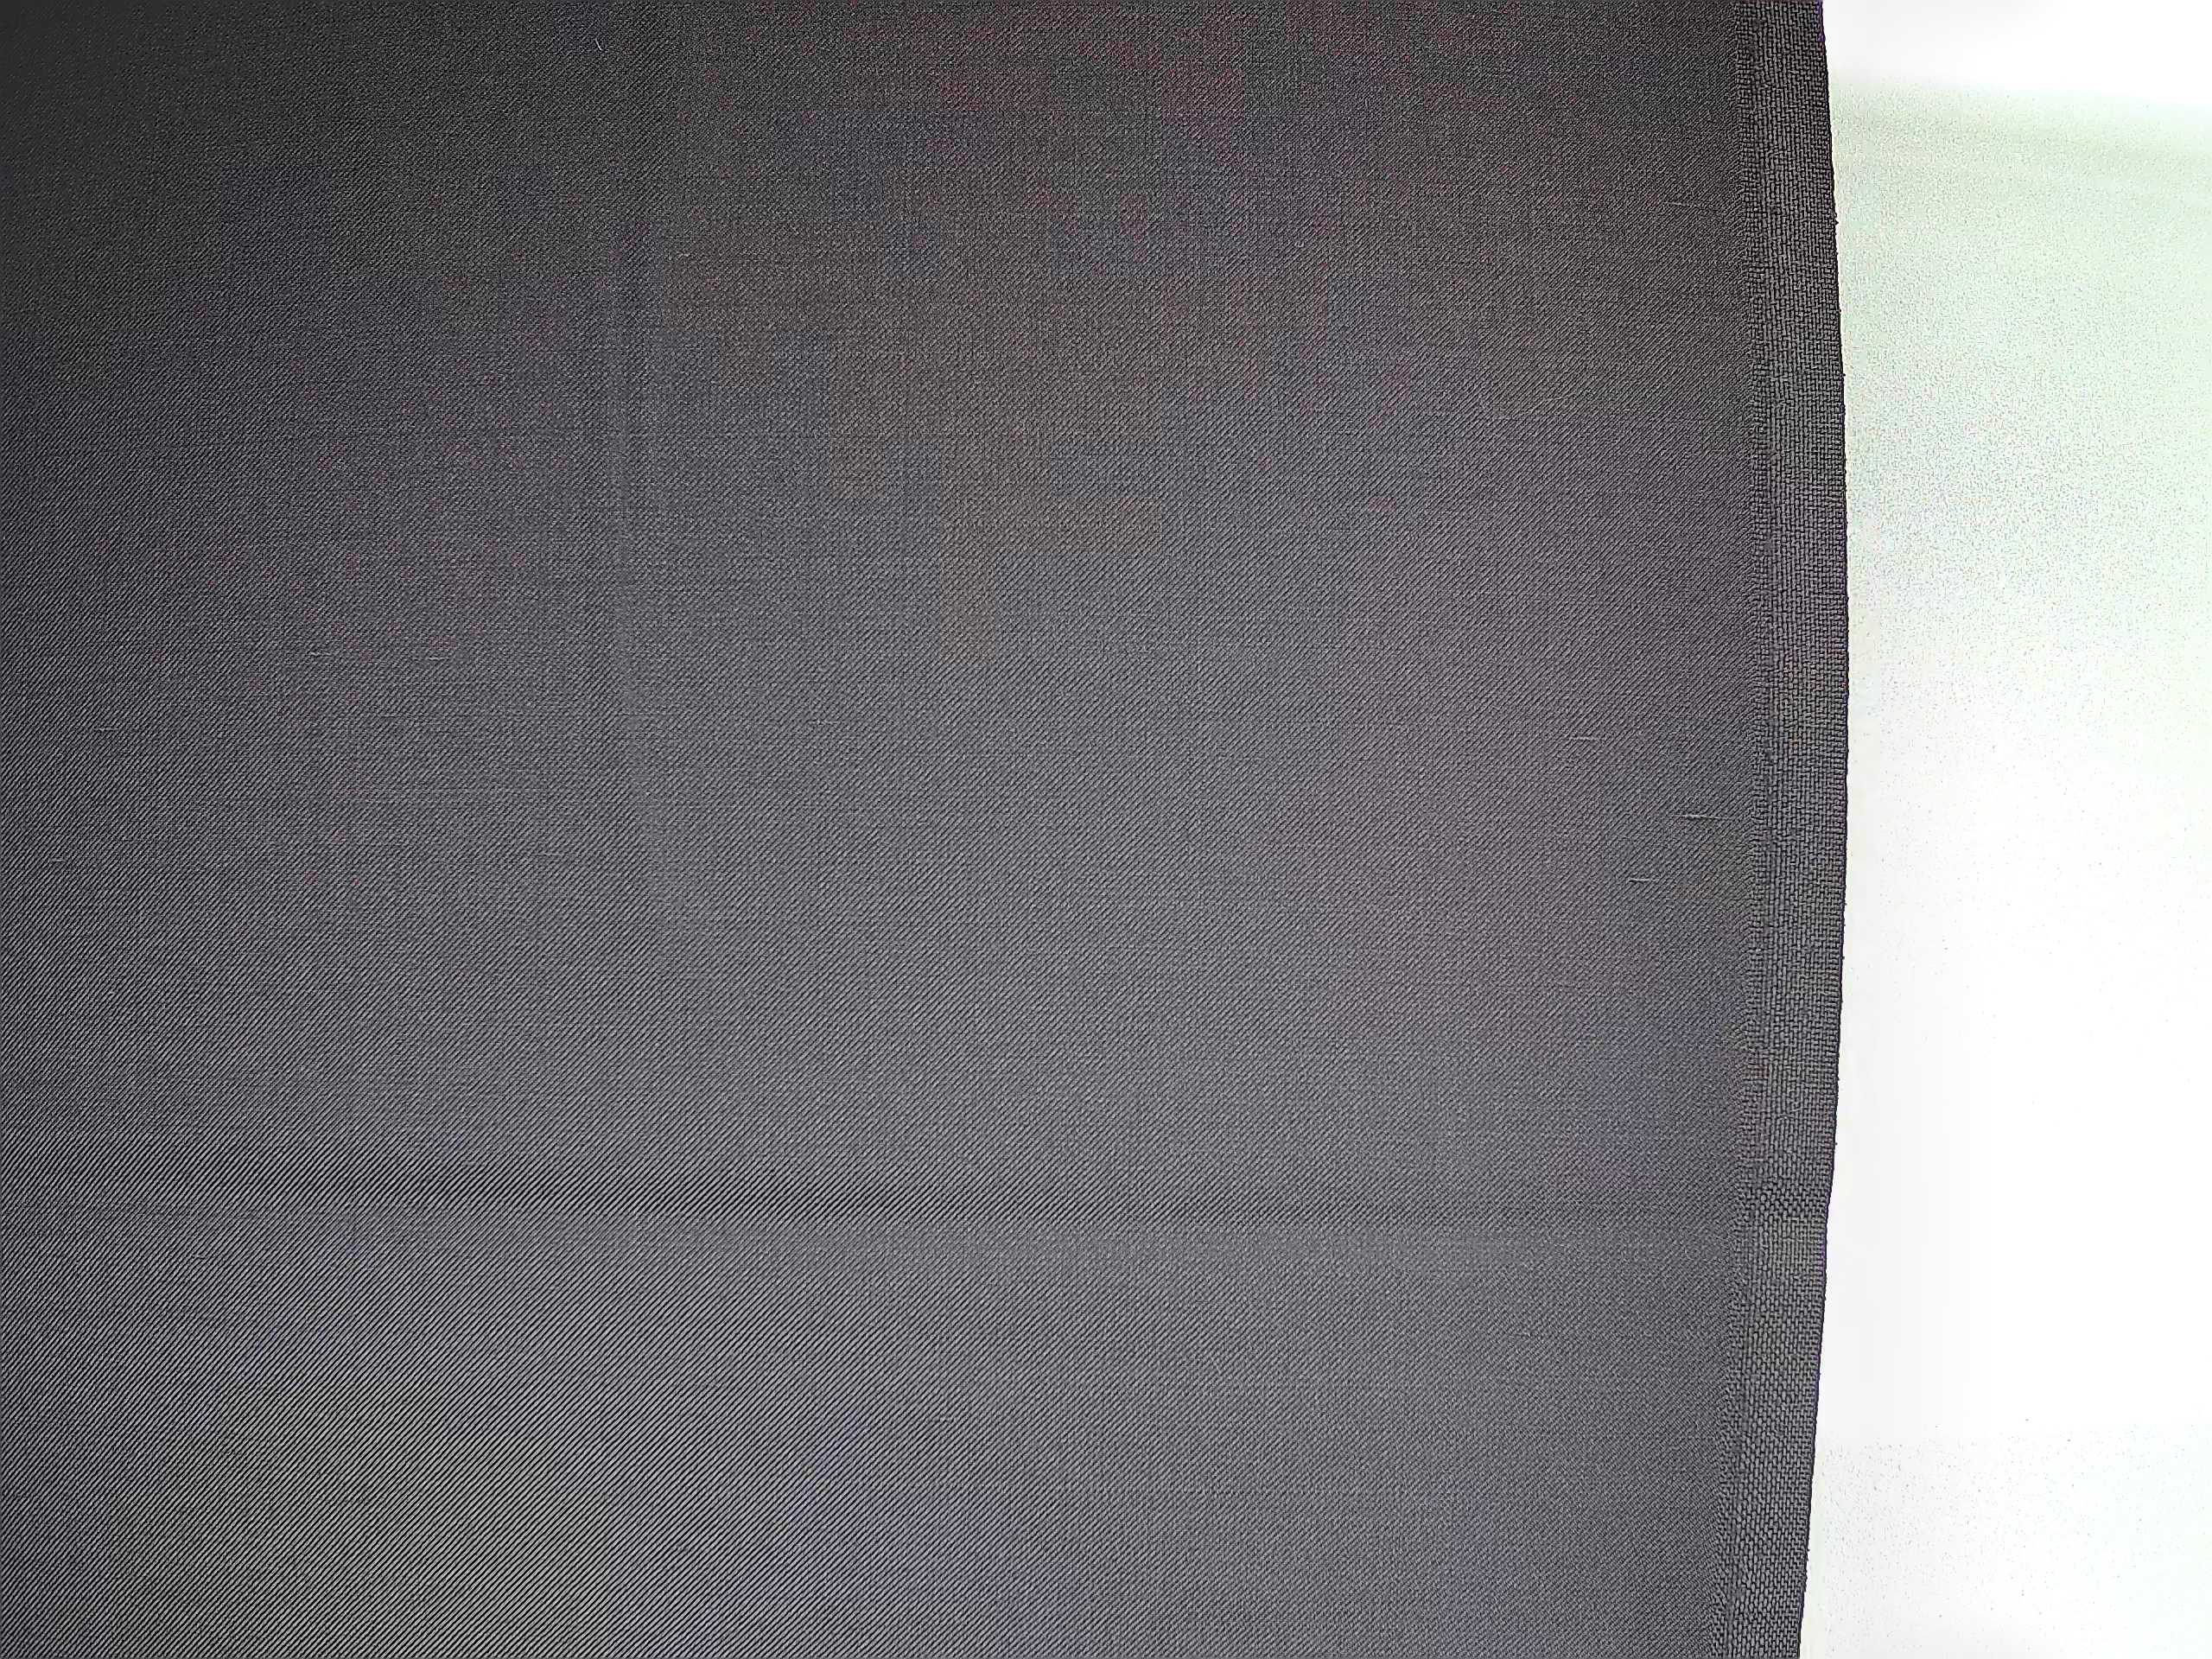others: (1669, 788, 1733, 836), (1620, 861, 1672, 901), (1557, 721, 1613, 753)
